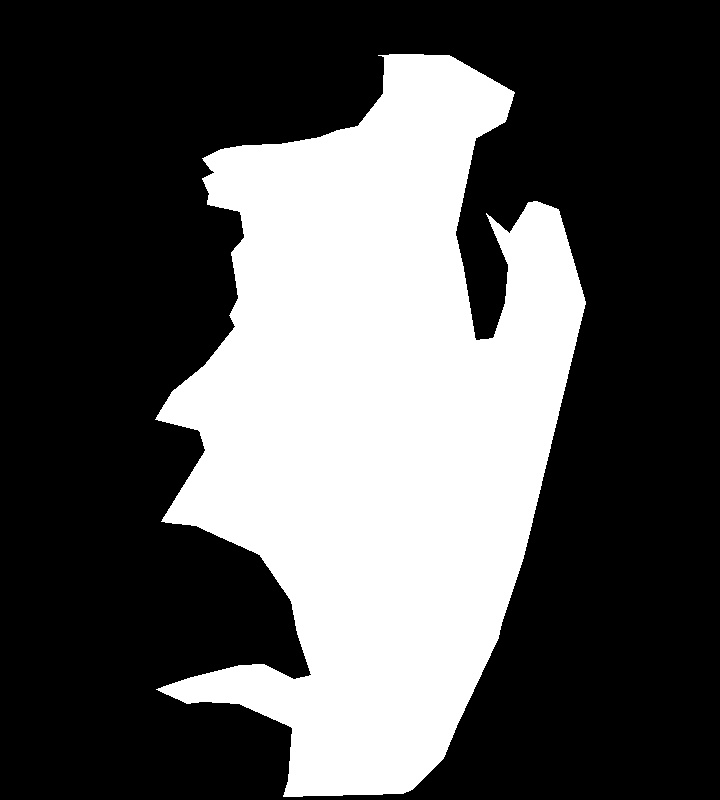Fire: (148, 127, 483, 743)
